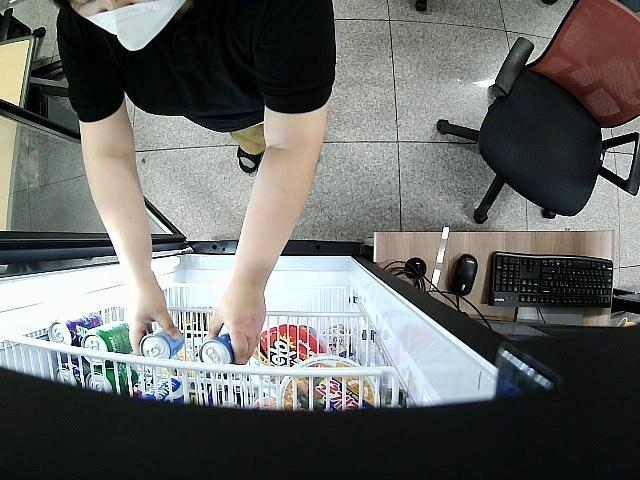15_letsbe: (140, 328, 183, 361), (198, 332, 236, 362)
